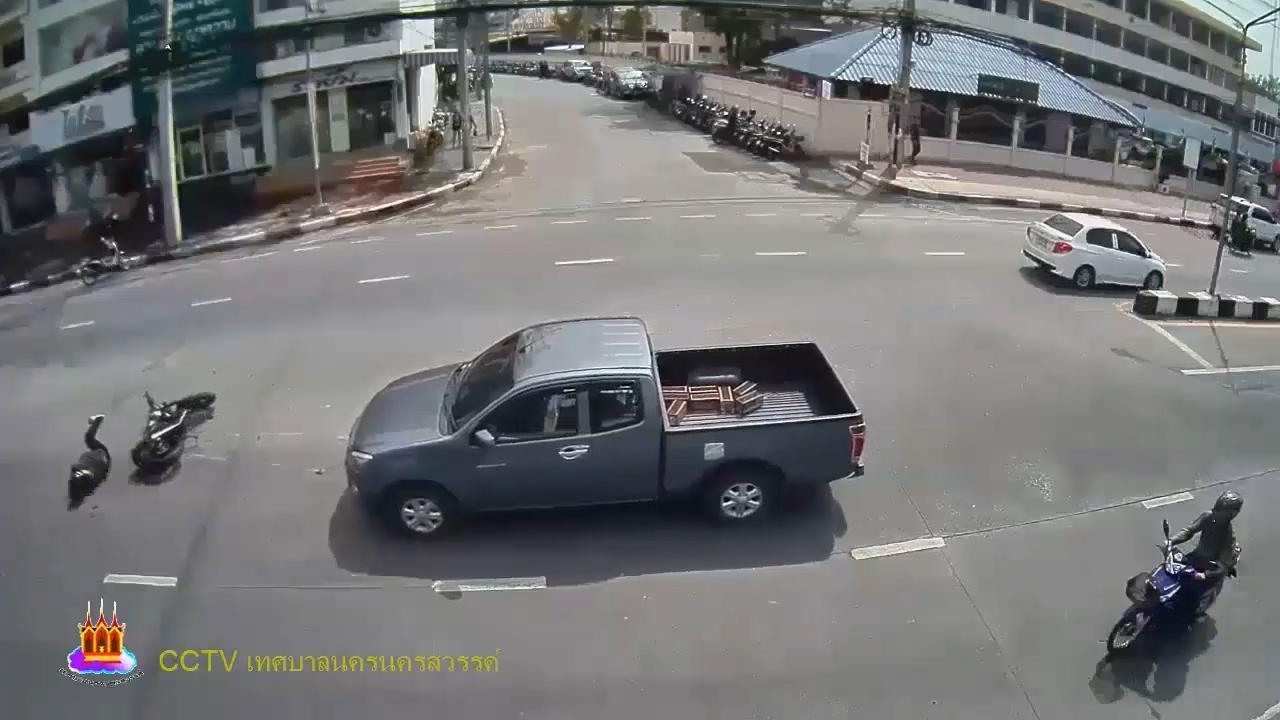accident: (57, 409, 119, 511)
